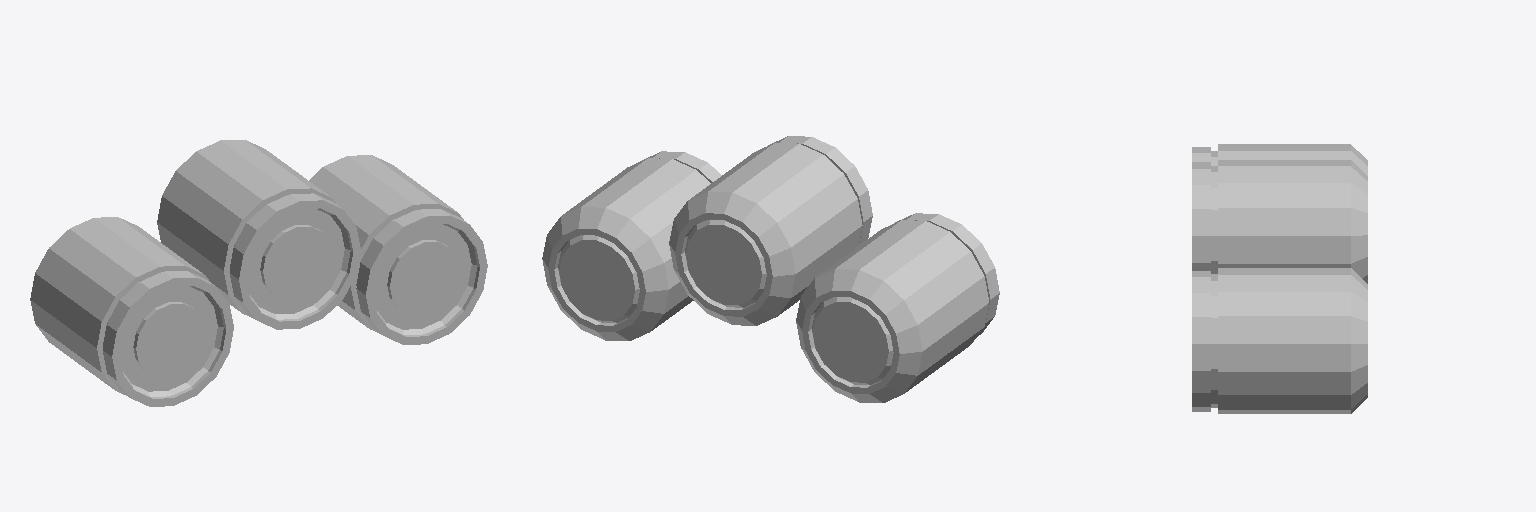
Rendered from energy.obj.
The picture shows the model from 3 angles: view 1: azimuth 30°, elevation 25°; view 2: azimuth 150°, elevation 25°; view 3: azimuth 270°, elevation 25°; orthographic projection.
Visible parts, largest first — view 1: energy_container; view 2: energy_container; view 3: energy_container.
Part boxes in pixels (left/top/right/bottom): energy_container: left=30, top=140, right=487, bottom=406; energy_container: left=542, top=136, right=999, bottom=402; energy_container: left=1192, top=144, right=1367, bottom=413.
Bounding box in the file's own units: 1.8 × 0.8095 × 0.7206.